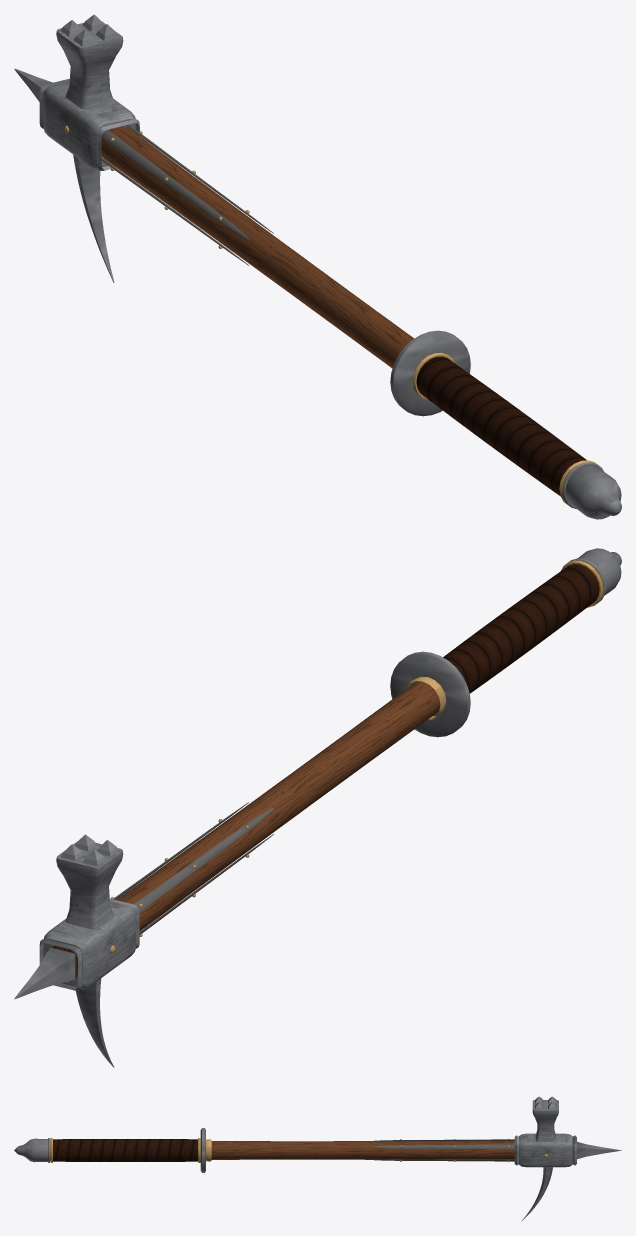
File: hammer.glb
3 renders of one model, top to bottom at view 1: azimuth 30°, elevation 25°; view 2: azimuth 150°, elevation 25°; view 3: azimuth 270°, elevation 25°, orthographic. The views are drawn at different scales.
Parts seen in each view (by area): view 1: hammer; view 2: hammer; view 3: hammer.
Part boxes in pixels (x1,y1,x2,y2): hammer: (14,14,621,519); hammer: (14,548,621,1067); hammer: (14,1096,621,1221).
Bounding box in the file's own units: 0.067 × 0.2001 × 0.902.
5 materials, 5 textured.
